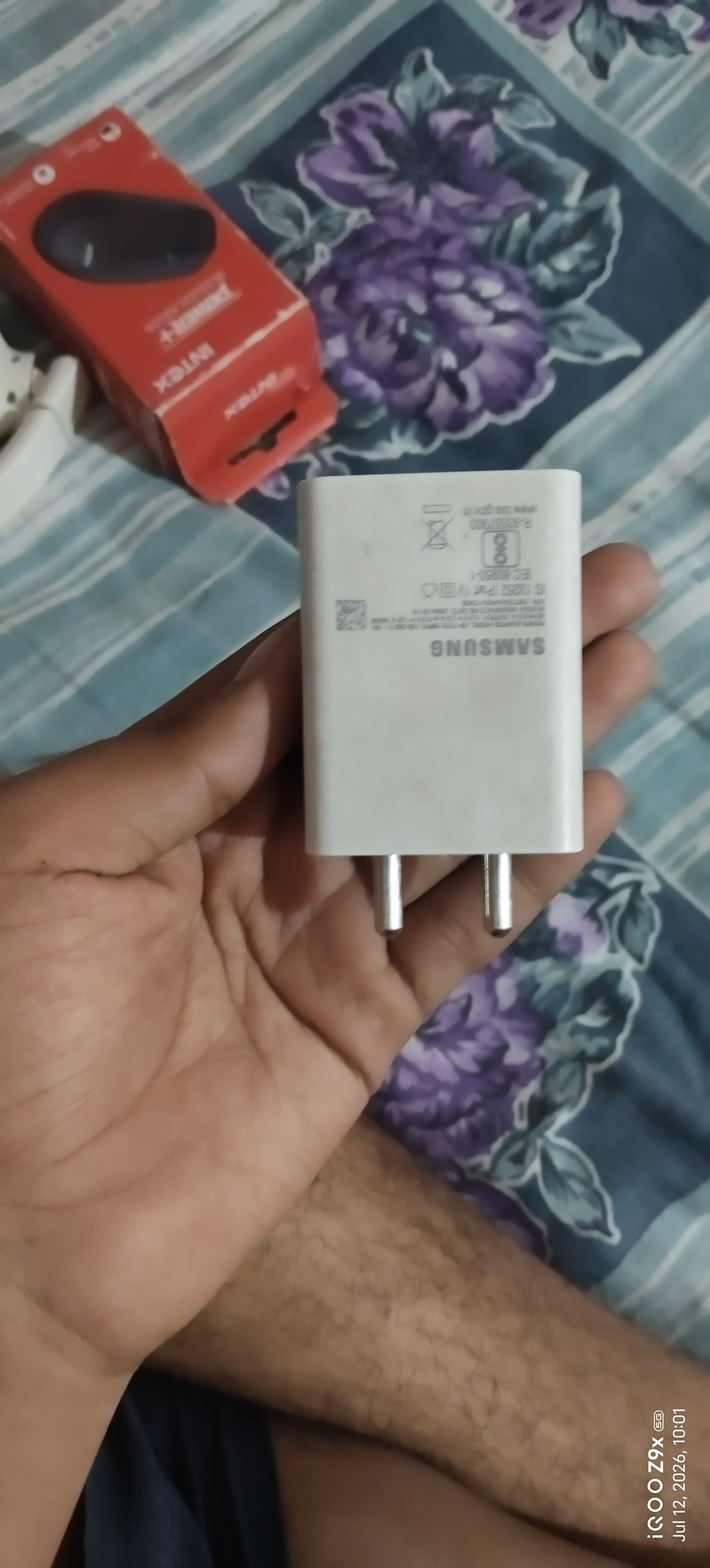charger: (267, 441, 617, 971)
